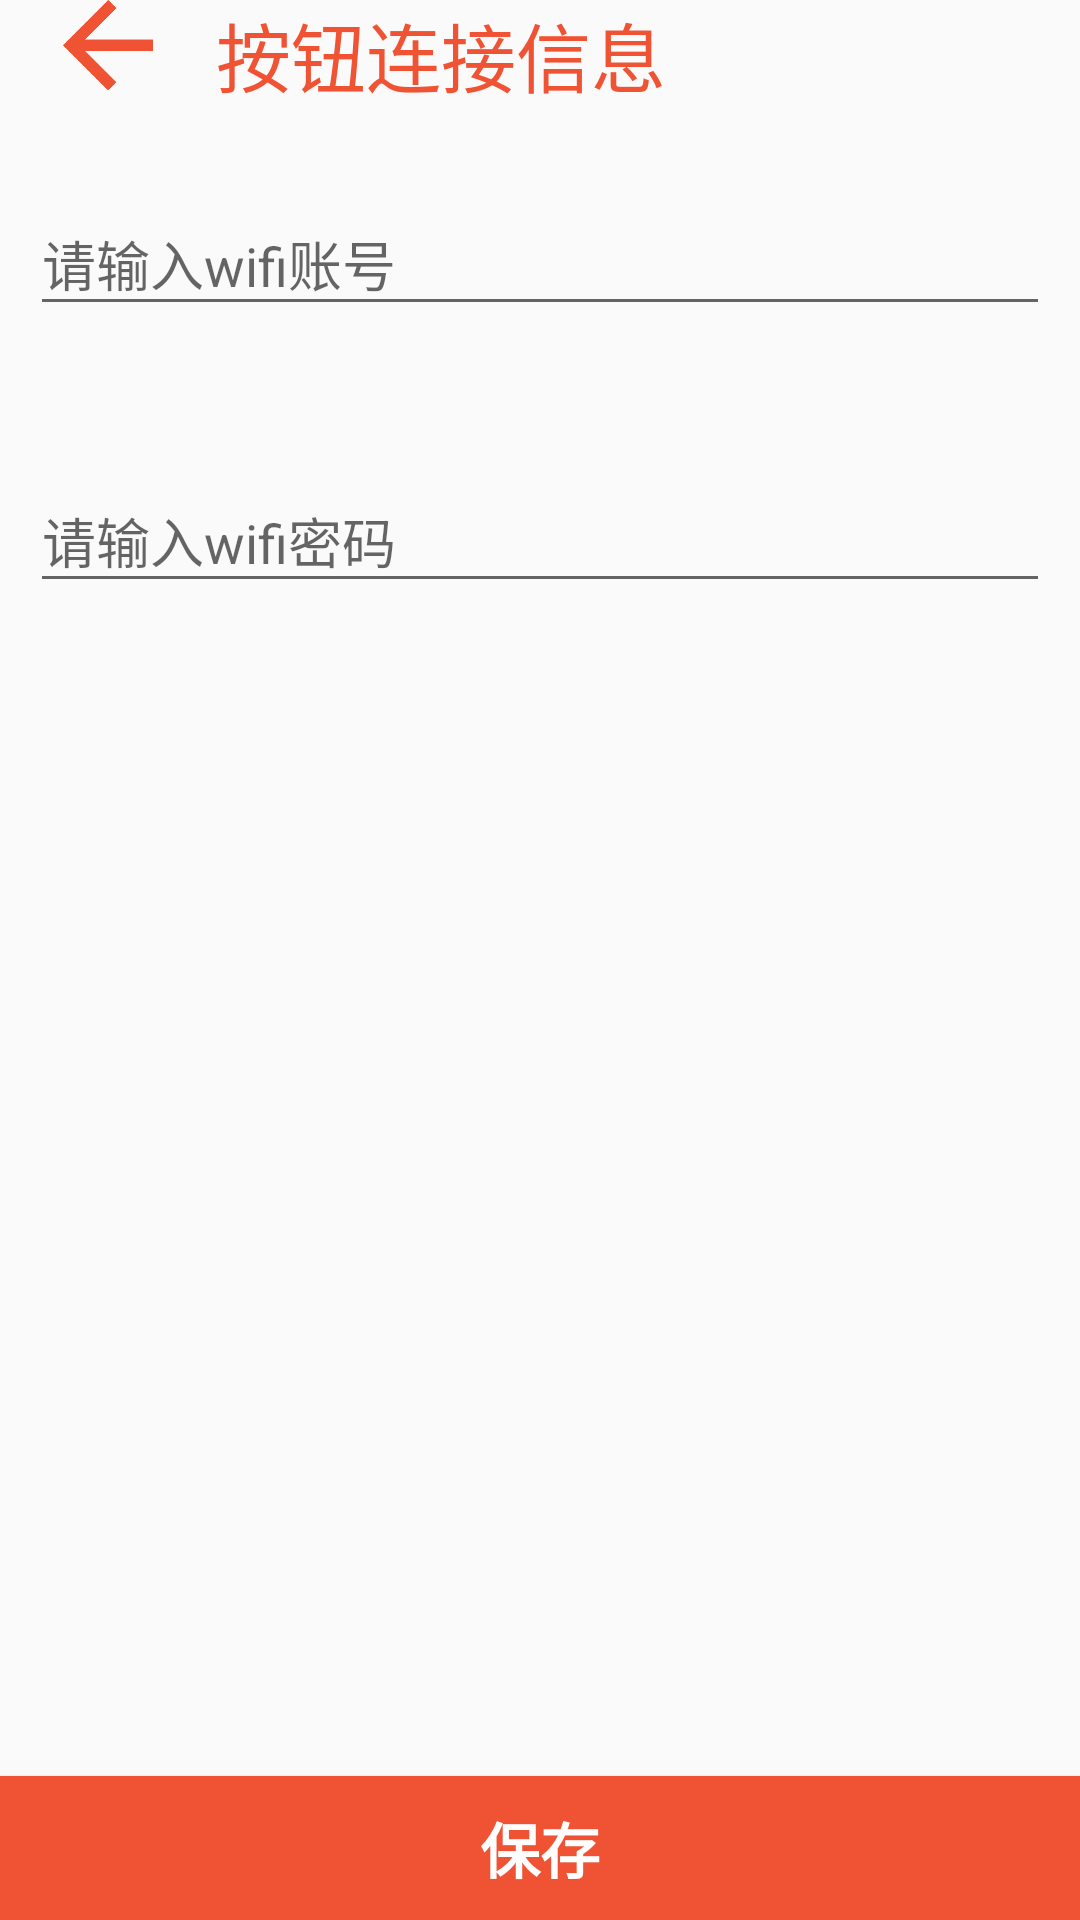

Screen size 1080 x 1920. Icon name, then its center in pixels as (x=x, y=y):
return last: (x=108, y=45)
